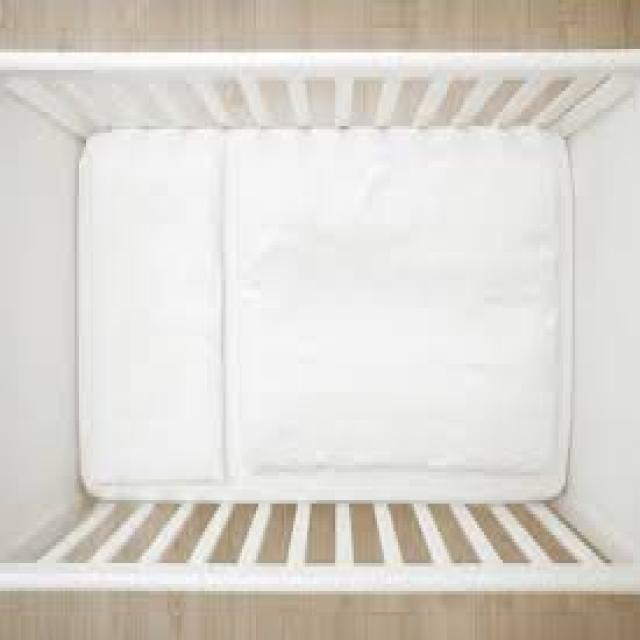crib: (0, 42, 638, 636)
